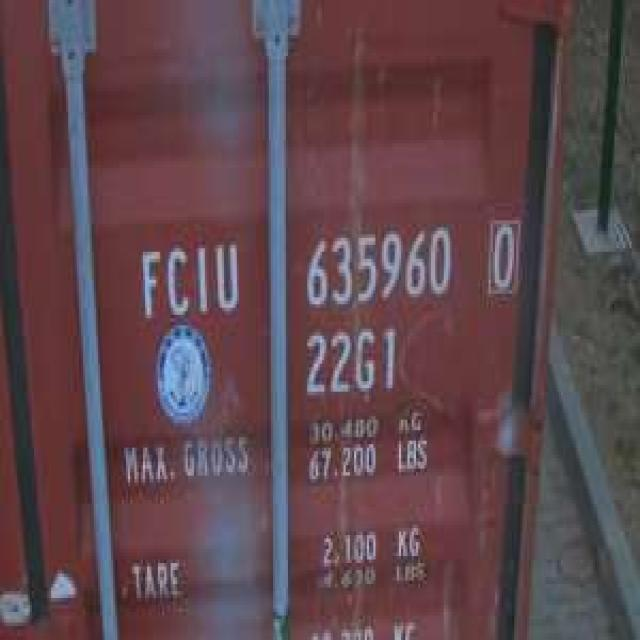dv: (484, 214, 520, 298)
owner: (132, 238, 242, 324)
serial: (299, 216, 458, 306)
size: (301, 316, 403, 400)
